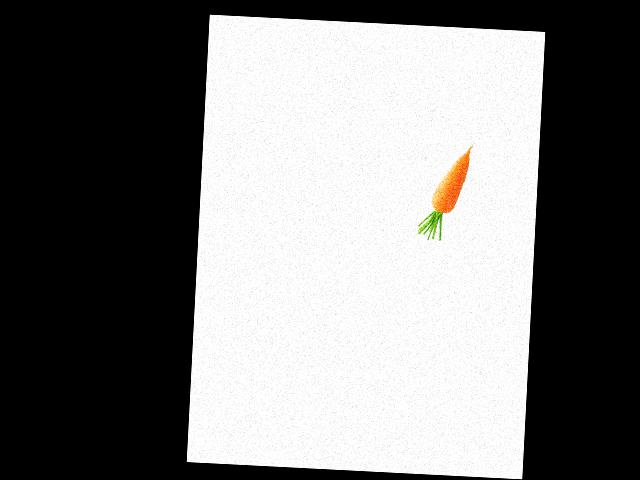carrot: (429, 140, 474, 204)
